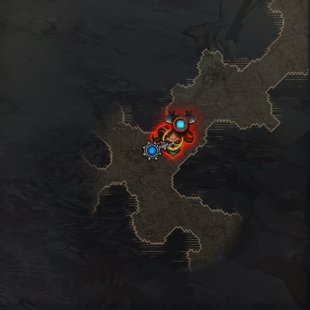Guardian: (150, 122, 195, 157)
